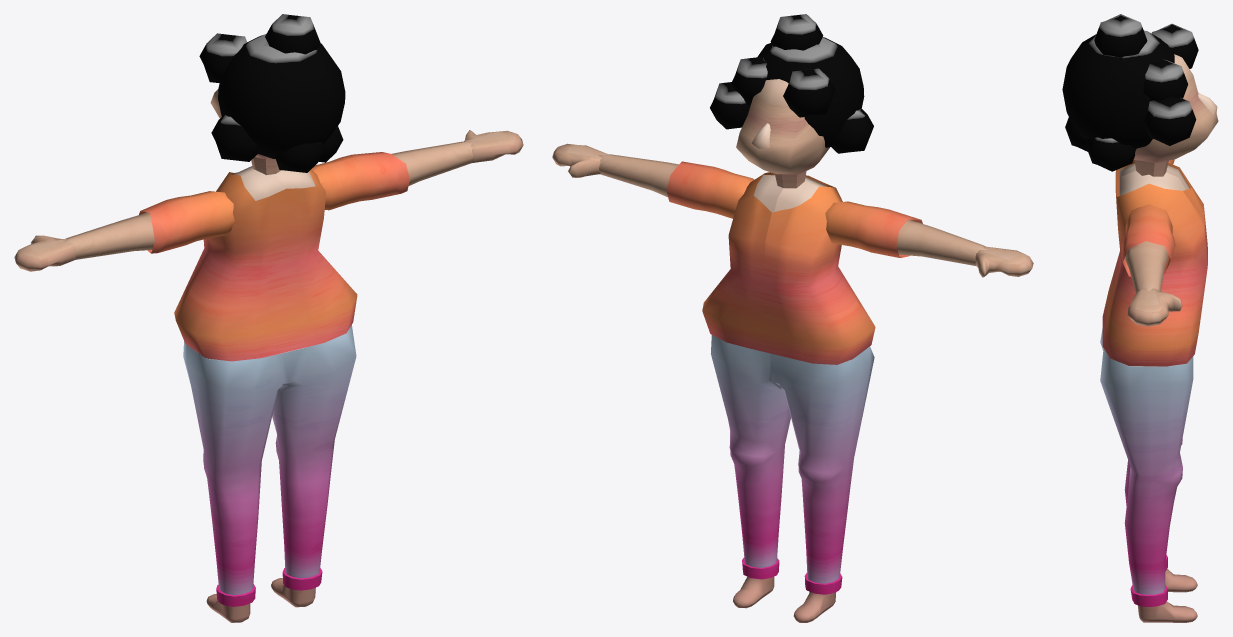
Rendered from Mother_T_Pose.fbx.
3 renders of one model, left to right at view 1: azimuth 30°, elevation 25°; view 2: azimuth 150°, elevation 25°; view 3: azimuth 270°, elevation 25°, orthographic. The views are drawn at different scales.
Parts seen in each view (by area): view 1: polySurface18; view 2: polySurface18; view 3: polySurface18.
Part boxes in pixels (x1=…): polySurface18: x1=14, y1=14, x2=523, y2=622; polySurface18: x1=552, y1=14, x2=1033, y2=622; polySurface18: x1=1062, y1=14, x2=1218, y2=622.
Bounding box in the file's own units: 301 × 344 × 82.05.
